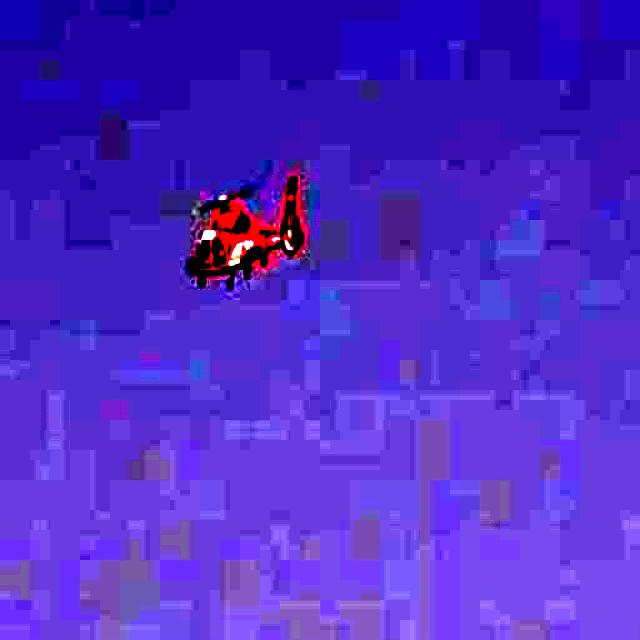drone: (135, 129, 371, 318)
